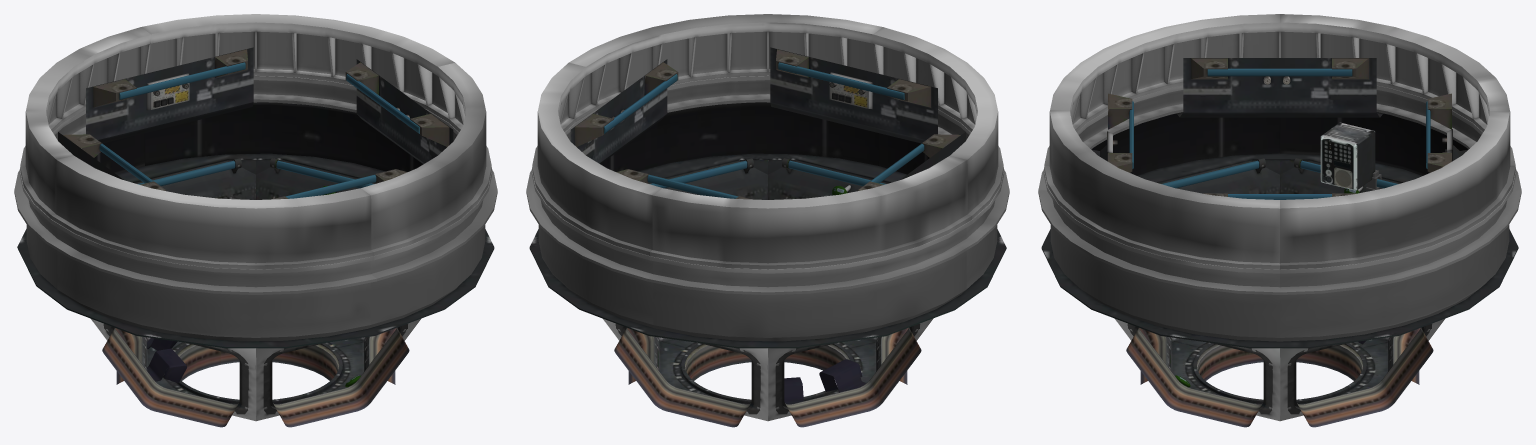
Rendered from cupola.glb.
3 views of the same model, side by side, from view 1: azimuth 30°, elevation 25°; view 2: azimuth 150°, elevation 25°; view 3: azimuth 270°, elevation 25° (orthographic).
Visible parts, largest first — view 1: Cupola_Int_Cabin, Cupola_Int_Metal; view 2: Cupola_Int_Cabin, Cupola_Int_Metal; view 3: Cupola_Int_Cabin, Cupola_Int_Metal.
Part boxes in pixels (box(x1,y1,x2,y2)): Cupola_Int_Cabin: box(14, 14, 497, 427); Cupola_Int_Metal: box(99, 62, 419, 198); Cupola_Int_Cabin: box(526, 14, 1009, 427); Cupola_Int_Metal: box(604, 62, 924, 198); Cupola_Int_Cabin: box(1038, 14, 1521, 427); Cupola_Int_Metal: box(1129, 68, 1430, 199).
Bounding box in the file's own units: 20.7 × 13.47 × 20.7.
Materials: 2 (2 with a texture image).
